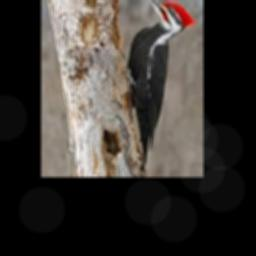Woodpecker: (126, 0, 195, 167)
